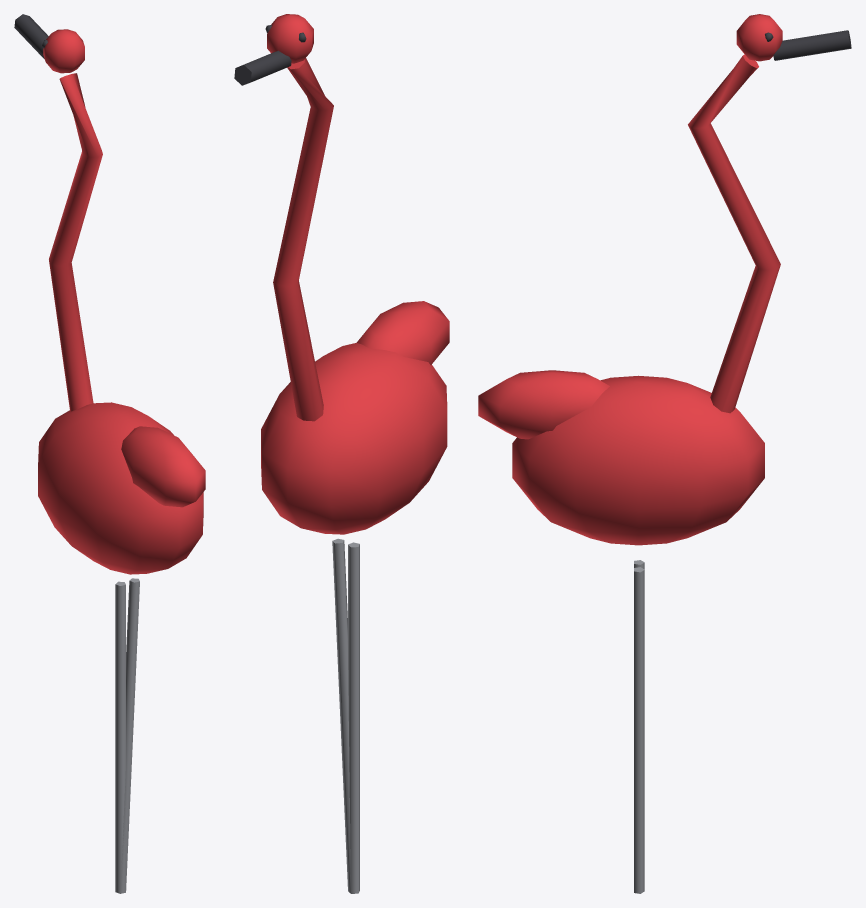
Rendered from flamingo_red.glb.
3 renders of one model, left to right at view 1: azimuth 30°, elevation 25°; view 2: azimuth 150°, elevation 25°; view 3: azimuth 270°, elevation 25°, orthographic. The views are drawn at different scales.
Parts seen in each view (by area): view 1: flamingo_red; view 2: flamingo_red; view 3: flamingo_red.
Boxes of the visible parts, box(x1,y1,x2,y2) form: flamingo_red: box(14, 14, 205, 893); flamingo_red: box(234, 14, 449, 893); flamingo_red: box(478, 14, 851, 893).
Bounding box in the file's own units: 0.1755 × 1.12 × 0.432.
